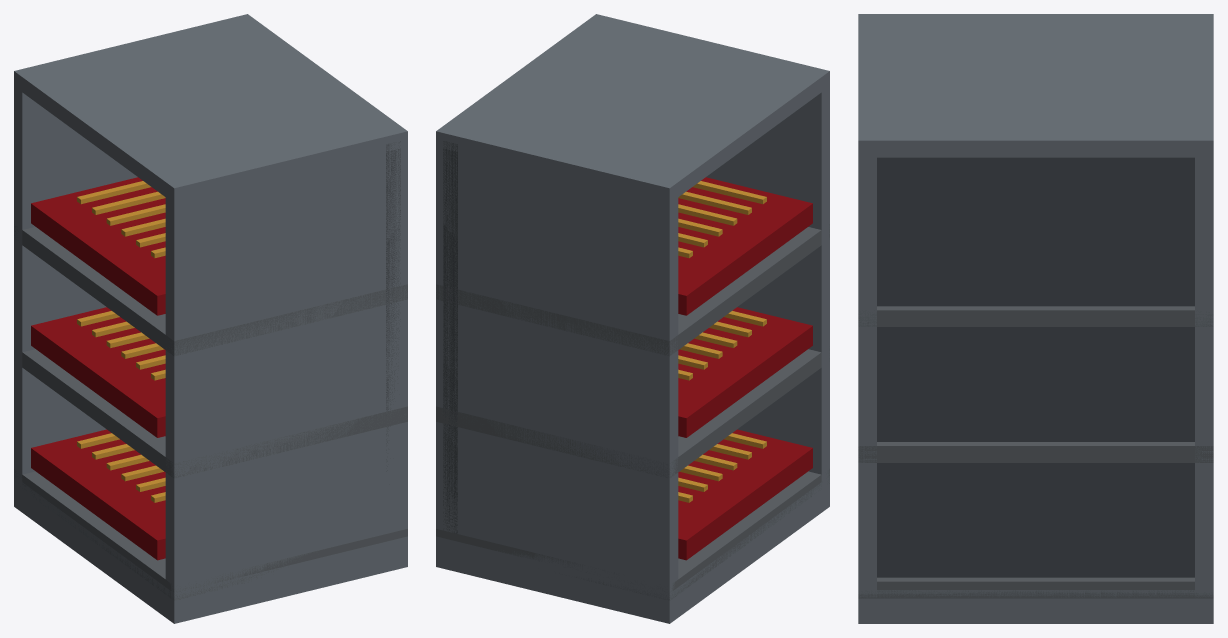
File: L32_HDMI_USB_A.obj
3 views of the same model, side by side, from view 1: azimuth 30°, elevation 25°; view 2: azimuth 150°, elevation 25°; view 3: azimuth 270°, elevation 25° (orthographic). The views are drawn at different scales.
Visible parts, largest first — view 1: HDMI_USB_A_Steel, HDMI_USB_A_Red, HDMI_USB_A_Silver, HDMI_USB_A_Gold, HDMI_USB_A_Gray; view 2: HDMI_USB_A_Steel, HDMI_USB_A_Red, HDMI_USB_A_Silver, HDMI_USB_A_Gold, HDMI_USB_A_Gray; view 3: HDMI_USB_A_Gray, HDMI_USB_A_Steel, HDMI_USB_A_Silver.
Part boxes in pixels (box(x1,y1,x2,y2)): HDMI_USB_A_Steel: box(14, 14, 407, 623); HDMI_USB_A_Red: box(31, 177, 165, 560); HDMI_USB_A_Silver: box(14, 224, 407, 600); HDMI_USB_A_Gold: box(77, 181, 165, 502); HDMI_USB_A_Gray: box(386, 141, 400, 471); HDMI_USB_A_Steel: box(436, 14, 829, 623); HDMI_USB_A_Red: box(678, 177, 812, 560); HDMI_USB_A_Silver: box(436, 224, 829, 600); HDMI_USB_A_Gold: box(678, 181, 766, 502); HDMI_USB_A_Gray: box(443, 141, 457, 533); HDMI_USB_A_Gray: box(877, 157, 1194, 577); HDMI_USB_A_Steel: box(858, 14, 1213, 623); HDMI_USB_A_Silver: box(858, 306, 1213, 598).
Size of the model in its own units: 0.016 by 0.0285 by 0.019.
